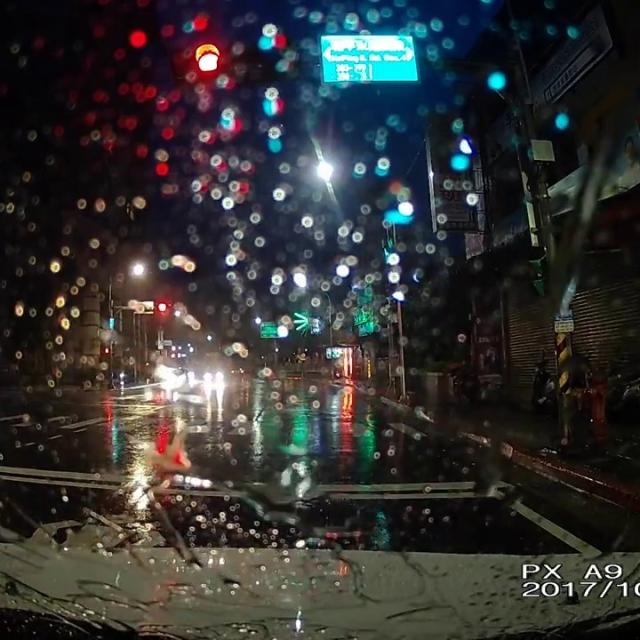Car: (201, 364, 224, 384)
